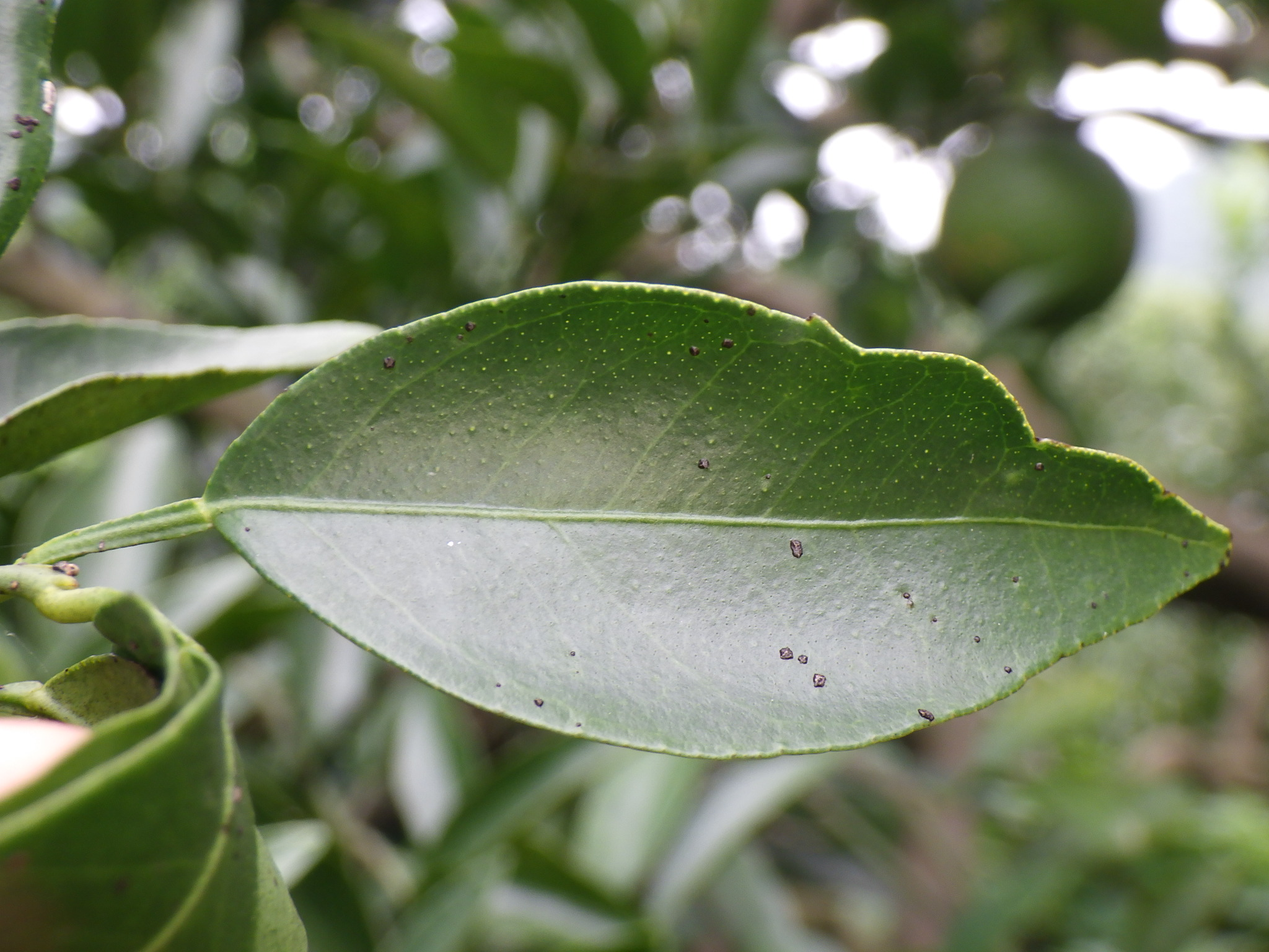Black_Spot: (182, 283, 1228, 756)
